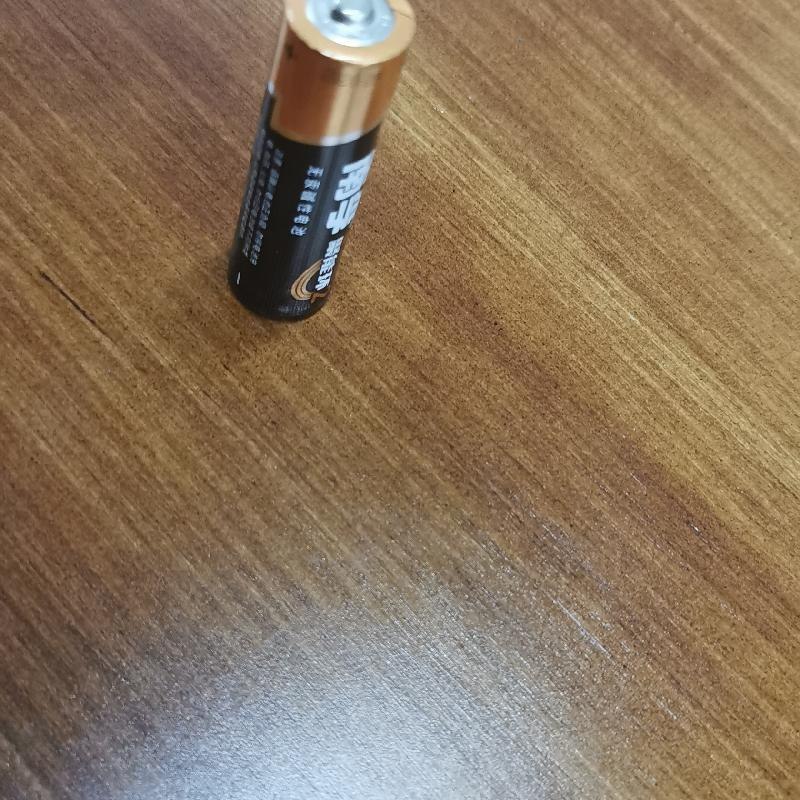battery: (221, 5, 417, 324)
